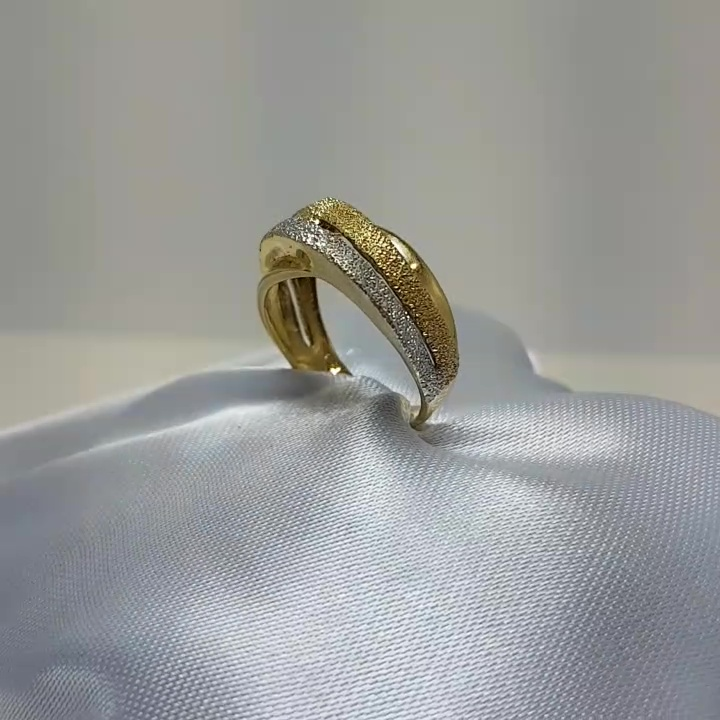Ring 5: (232, 188, 477, 450)
